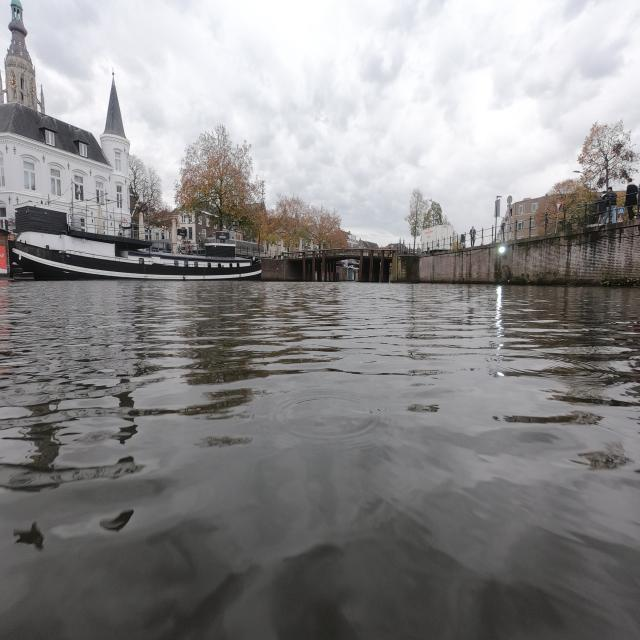boat: (11, 206, 262, 282)
sky: (12, 8, 638, 246)
tree: (175, 124, 257, 225), (264, 202, 352, 254), (578, 120, 638, 189), (405, 188, 427, 248)
wall: (404, 216, 638, 286), (261, 258, 291, 280), (289, 271, 299, 279)
water: (0, 280, 640, 640)
